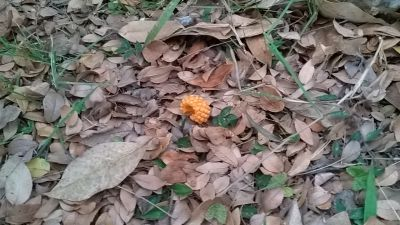eggs: (179, 95, 212, 124)
